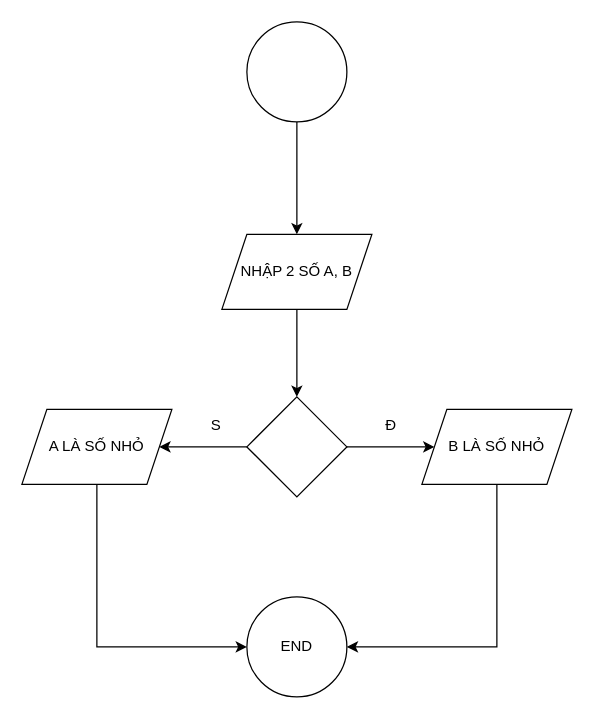
This 594x719 diagram has some shape labels left out. The centre of each missing label's shape, as x and y in pixels:
"A - B > 0" belongs at pixel 296 446.
"START" belongs at pixel 296 71.
